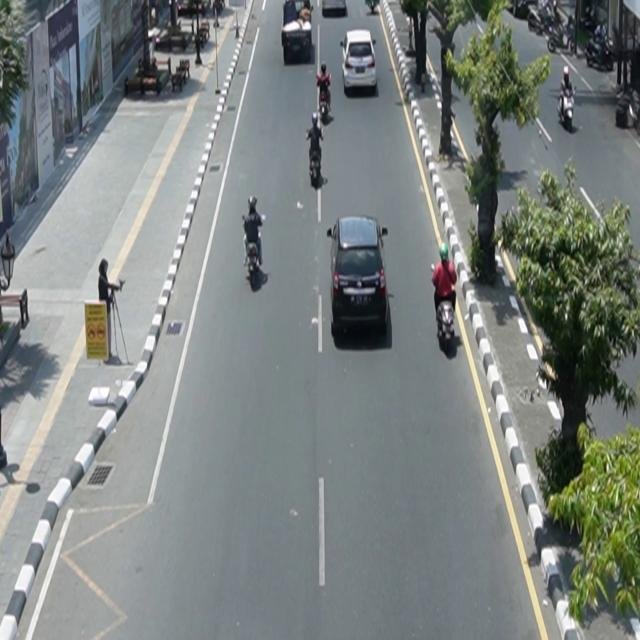car: (328, 215, 390, 338), (341, 30, 378, 95)
